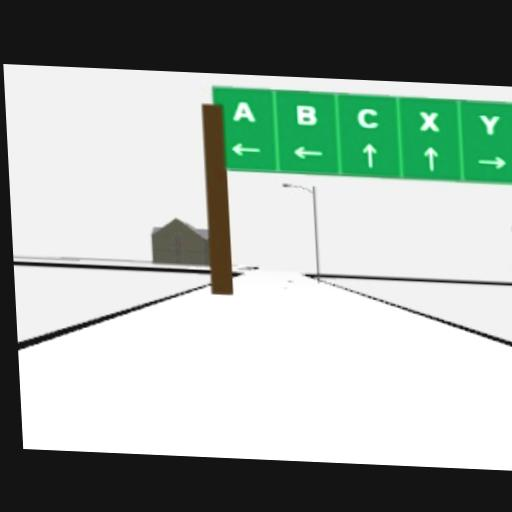A: (232, 99, 255, 122)
B: (295, 104, 316, 125)
C: (357, 107, 380, 128)
Left: (229, 141, 262, 156), (292, 144, 325, 159)
Right: (476, 154, 506, 169)
Straight: (423, 145, 439, 169), (362, 142, 378, 166)
X: (418, 109, 439, 130)
Y: (478, 113, 501, 134)
